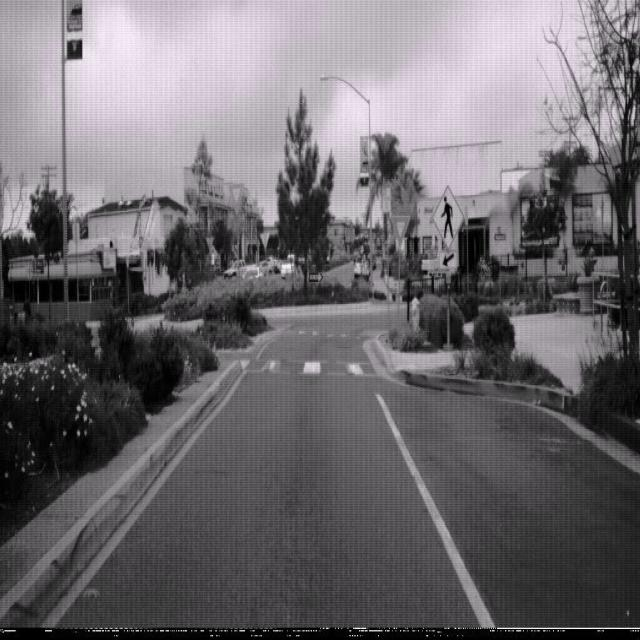pedestrianCrossing: (431, 184, 465, 251)
yield: (391, 213, 410, 249)
